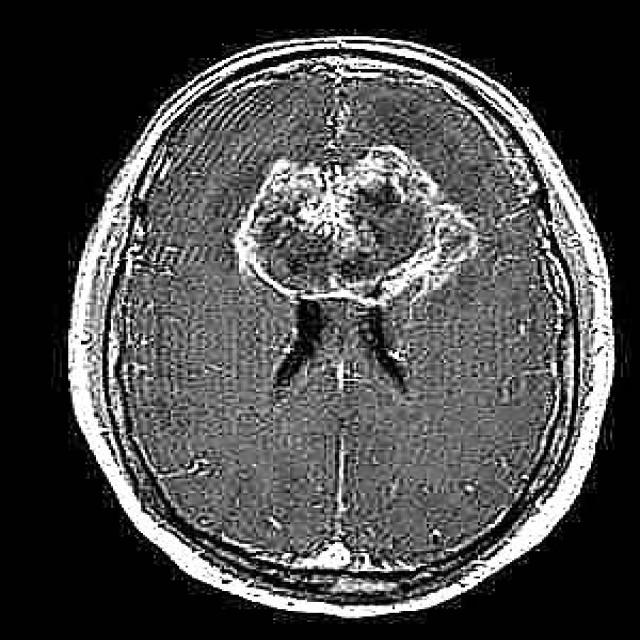Tumor-Cell: (212, 136, 462, 320)
